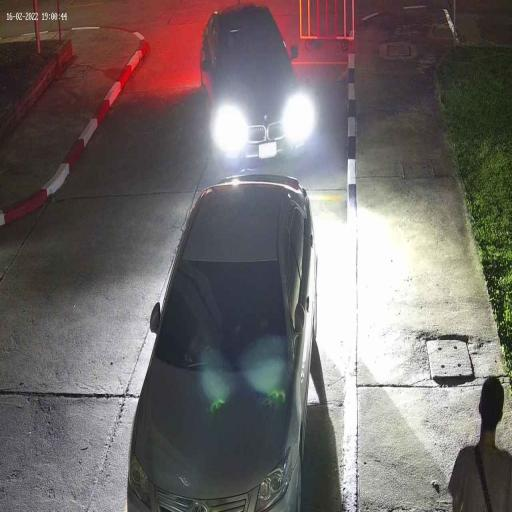car: (124, 171, 320, 512), (198, 3, 310, 163)
